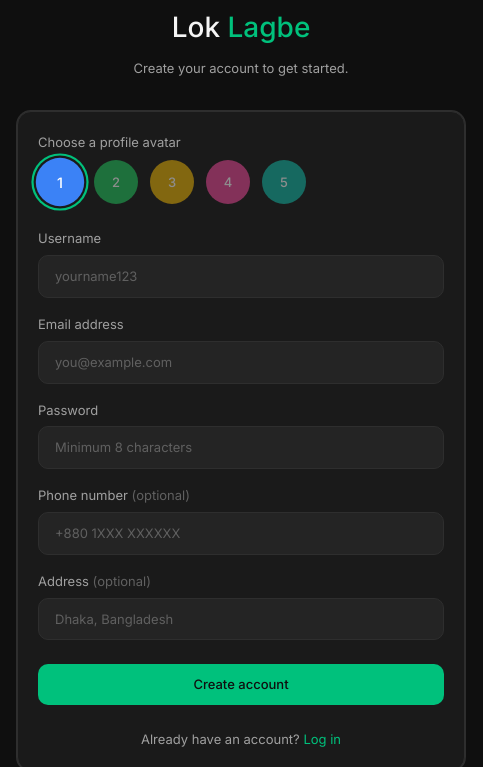
Test: RegisterPage › shows error message when registration fails
Type "testuser" into the field with placeholder "yourname123" at {"x": 241, "y": 277}, box [38, 255, 444, 298]
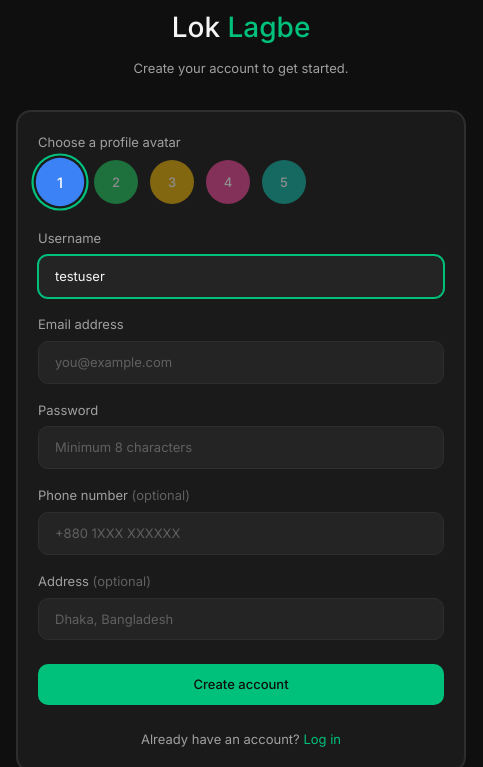
Type "test@test.com" into the field with placeholder "you@example.com" at {"x": 241, "y": 362}, box [38, 341, 444, 384]
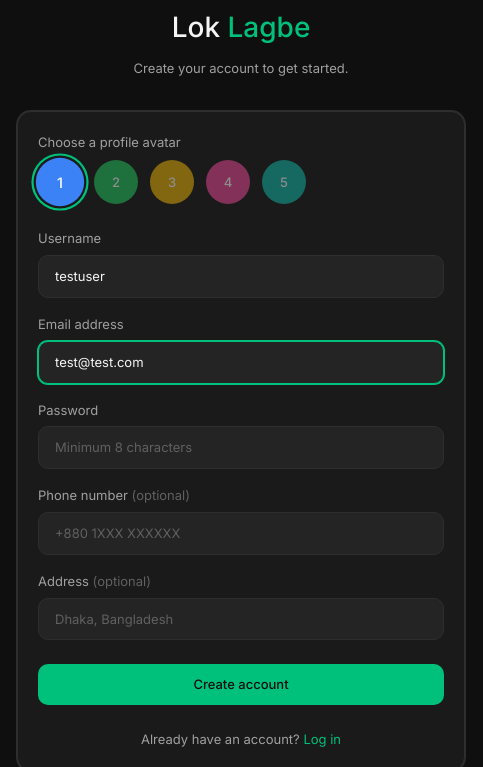
Type "testpass123" into the password field with placeholder "Minimum 8 characters" at {"x": 241, "y": 448}, box [38, 426, 444, 469]
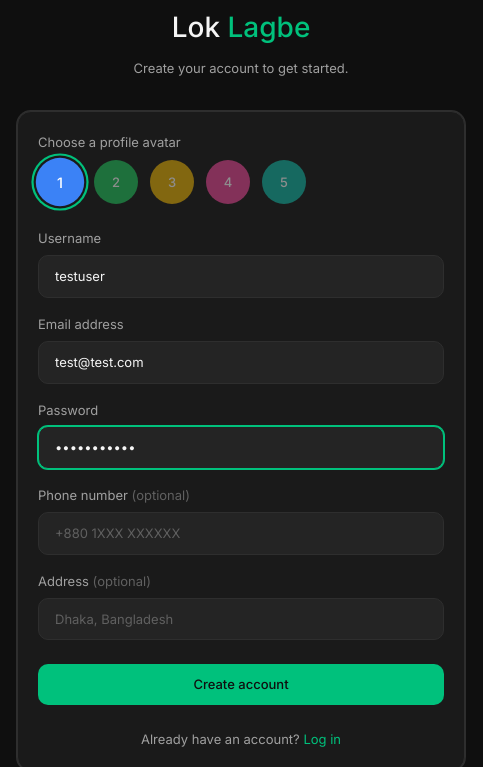
Click the button "Create account" at {"x": 241, "y": 685}, box [38, 664, 444, 705]
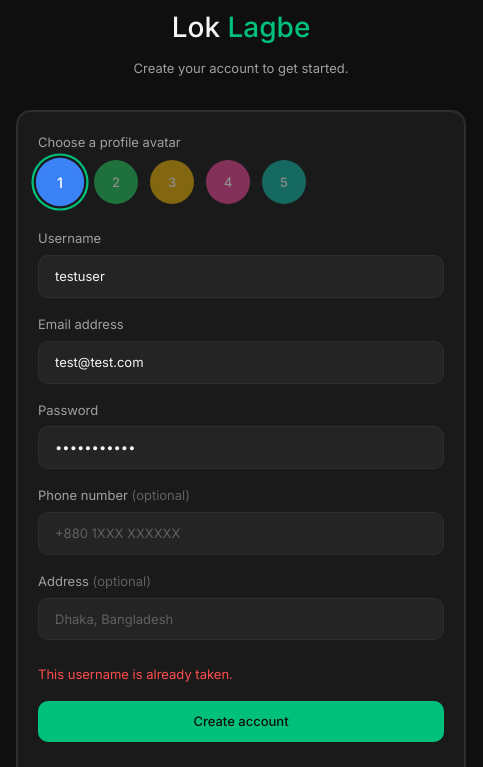
Now the text "This username is already taken." is shown, box [38, 666, 233, 682]
